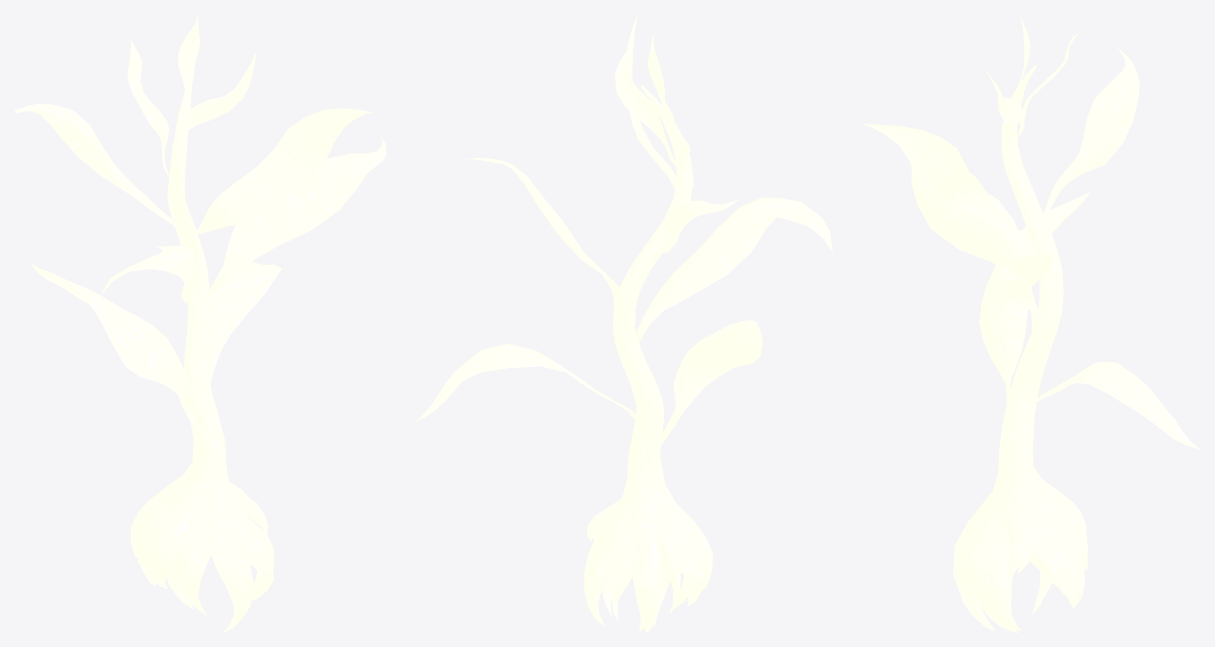
3 views of the same model, side by side, from view 1: azimuth 30°, elevation 25°; view 2: azimuth 150°, elevation 25°; view 3: azimuth 270°, elevation 25° (orthographic).
Visible parts, largest first — view 1: SM_Swamp_Weed_01_LOD0; view 2: SM_Swamp_Weed_01_LOD0; view 3: SM_Swamp_Weed_01_LOD0.
Part boxes in pixels (x1,y1,x2,y2): SM_Swamp_Weed_01_LOD0: (14, 14, 386, 632); SM_Swamp_Weed_01_LOD0: (415, 15, 832, 632); SM_Swamp_Weed_01_LOD0: (861, 15, 1200, 632).
Size of the model in its own units: 0.509 by 0.9133 by 0.4598.
Materials: 1 (1 with a texture image).
